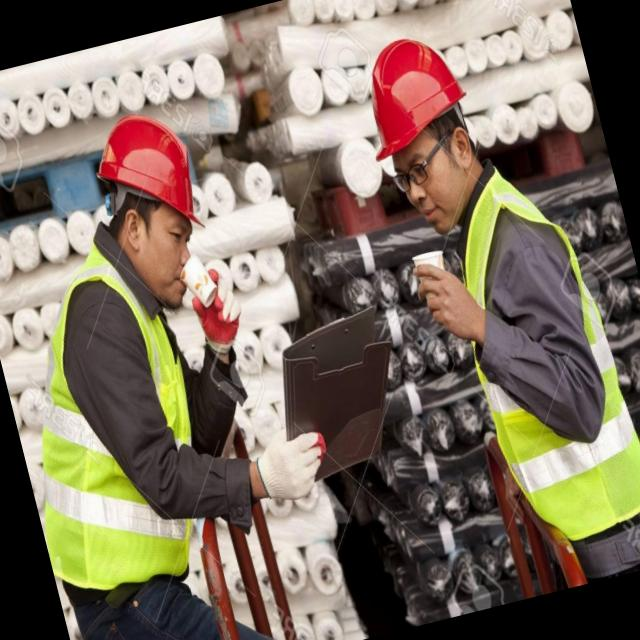helmet: (342, 21, 479, 172), (81, 107, 210, 260)
no-goggles: (366, 118, 477, 215), (142, 206, 202, 254)
vest: (433, 153, 640, 564), (0, 253, 225, 605)
